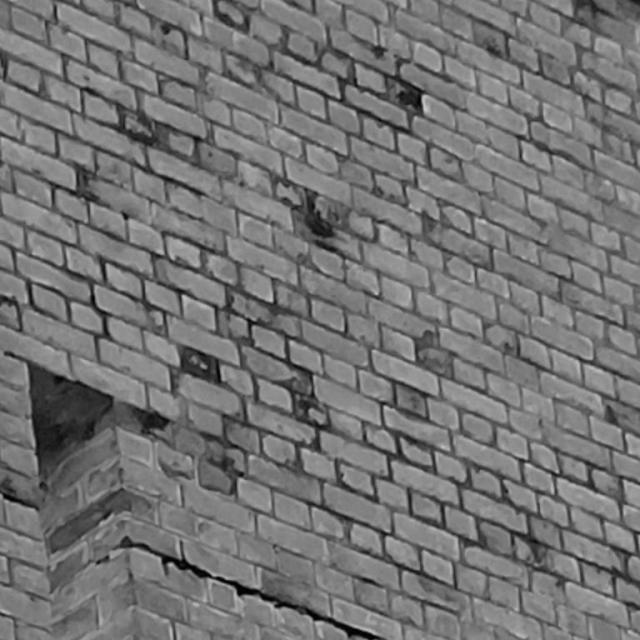crack: (95, 535, 383, 640)
